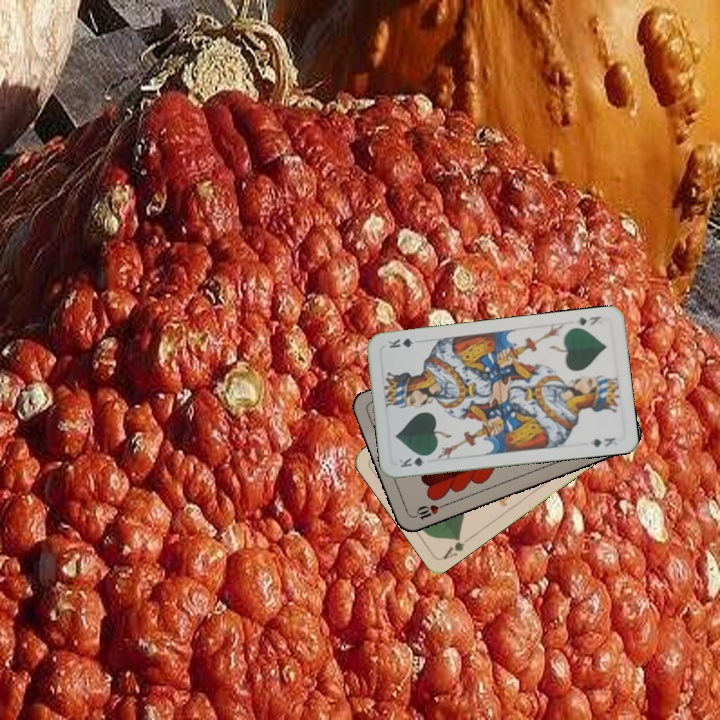GA: (439, 532, 474, 562)
GK: (395, 451, 434, 470), (575, 312, 603, 328)
H10: (410, 499, 449, 523)
